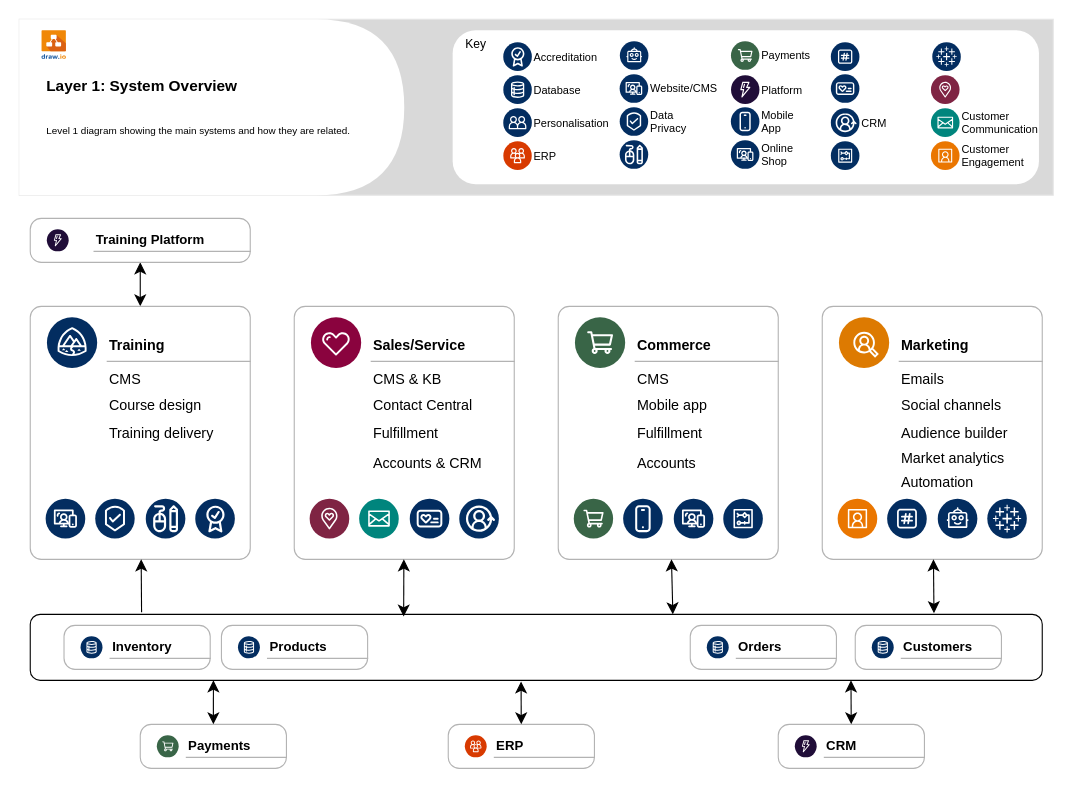
This 1073x788 diagram has some shape labels left out. Here are the shapes that lost their labels. From the top down, the centre of each, then its label:
(633,55): Marketing Automation
(844,56): Channels
(946,56): Analytics
(844,88): Customer Loyalty
(944,89): Field Sales/Service
(633,154): Course Builder
(844,155): Fulfilment
